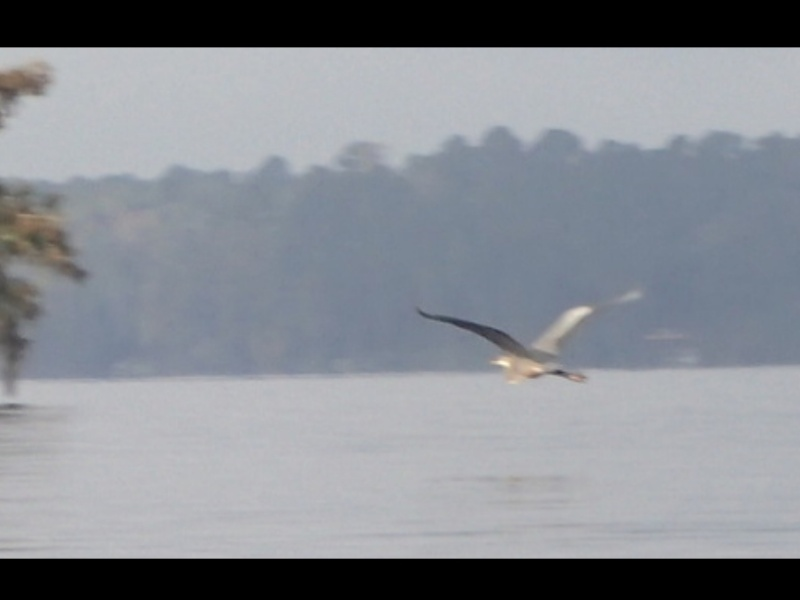heron: (408, 287, 652, 391)
